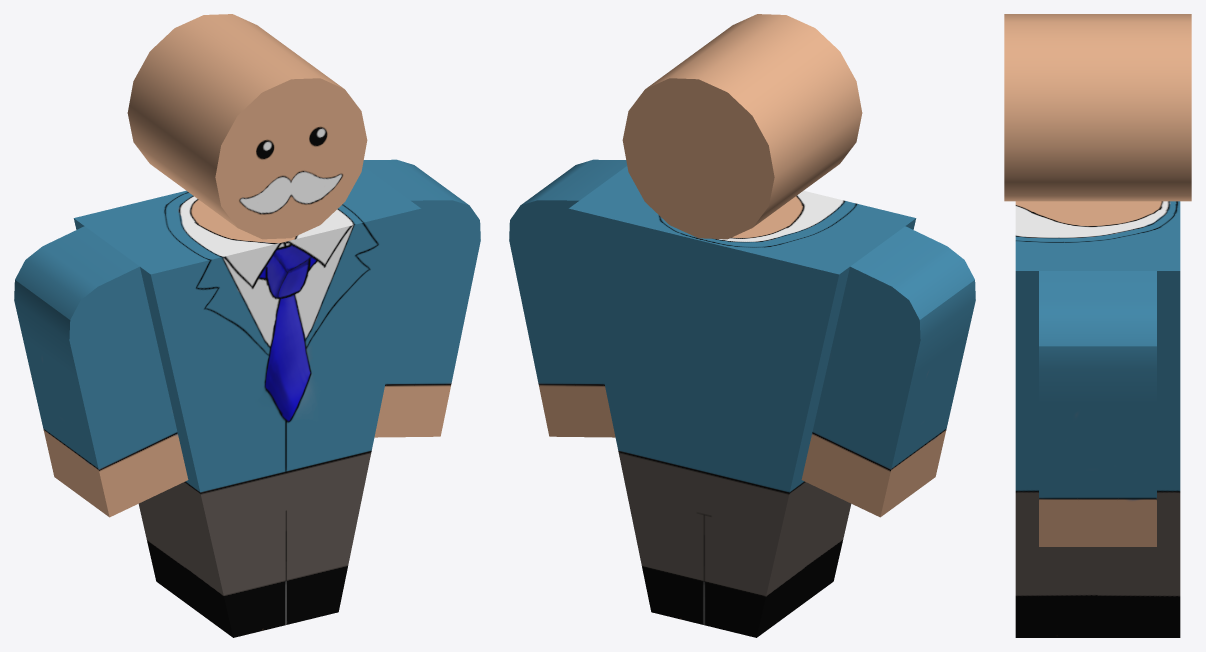
Rendered from sm_John_GEO.fbx.
3 renders of one model, left to right at view 1: azimuth 30°, elevation 25°; view 2: azimuth 150°, elevation 25°; view 3: azimuth 270°, elevation 25°, orthographic. The views are drawn at different scales.
Visible parts, largest first — view 1: body_GEO, head_GEO, arm_R_GEO1, arm_R_GEO; view 2: body_GEO, head_GEO, arm_R_GEO1, arm_R_GEO; view 3: body_GEO, head_GEO, arm_R_GEO.
Part boxes in pixels (x1,y1,x2,y2): body_GEO: (73,166,421,637); head_GEO: (127,14,367,239); arm_R_GEO1: (14,226,188,517); arm_R_GEO: (362,159,480,437); body_GEO: (568,166,916,637); head_GEO: (622,14,862,239); arm_R_GEO1: (801,226,975,517); arm_R_GEO: (509,159,627,437); body_GEO: (1015,201,1180,637); head_GEO: (1004,14,1191,201); arm_R_GEO: (1039,271,1156,546).
Bounding box in the file's own units: 2.97 × 3.79 × 1.1.
1 material, 1 textured.
